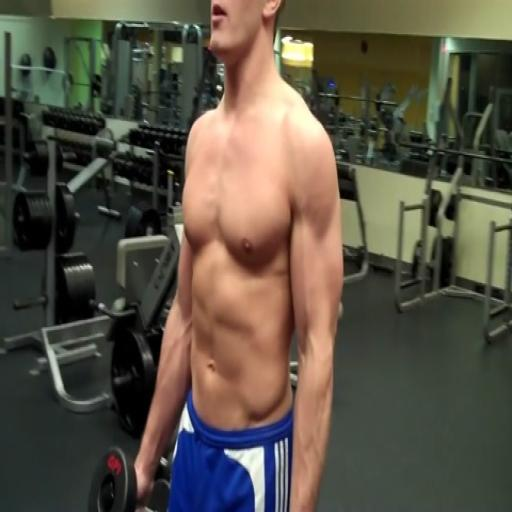exercise: (130, 0, 347, 511)
